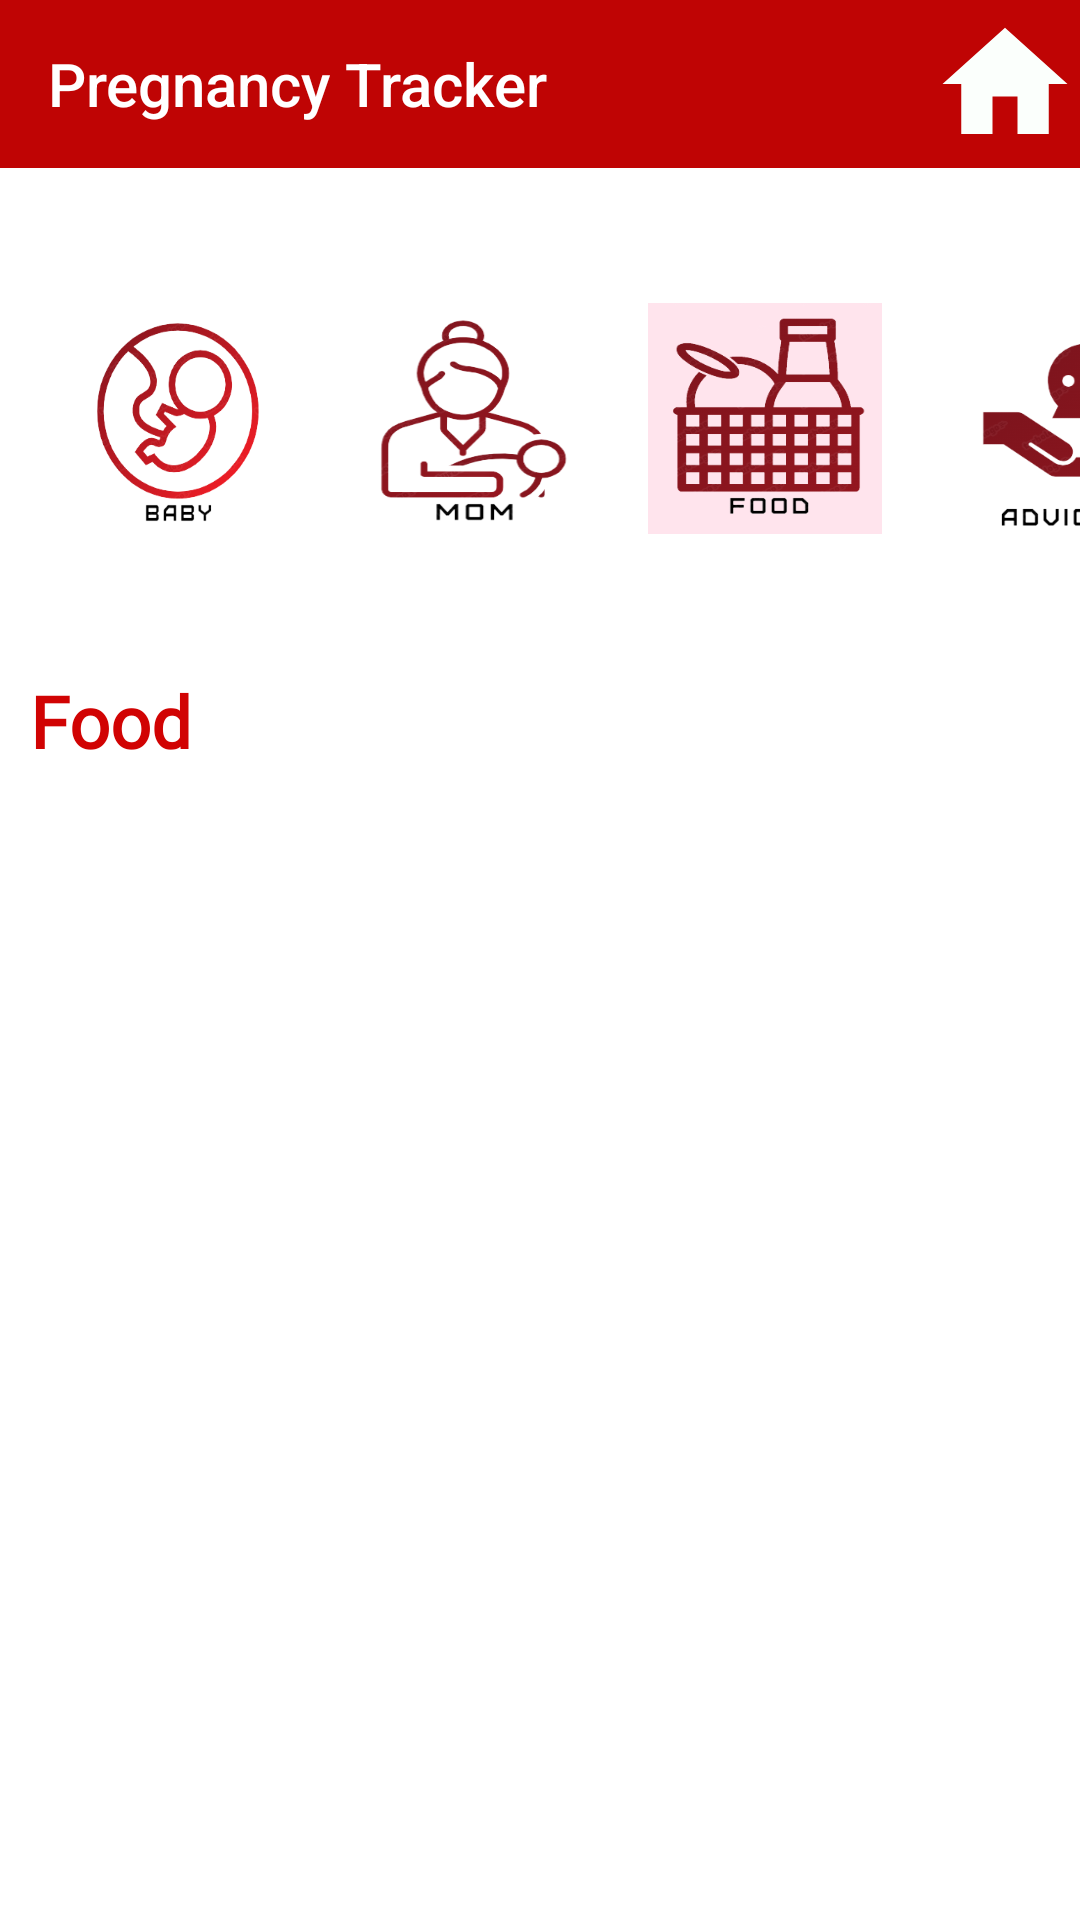

Named icons in this screenshot (1080px×1920px) and their centers, (x=x, y=y):
home: (x=1005, y=81)
